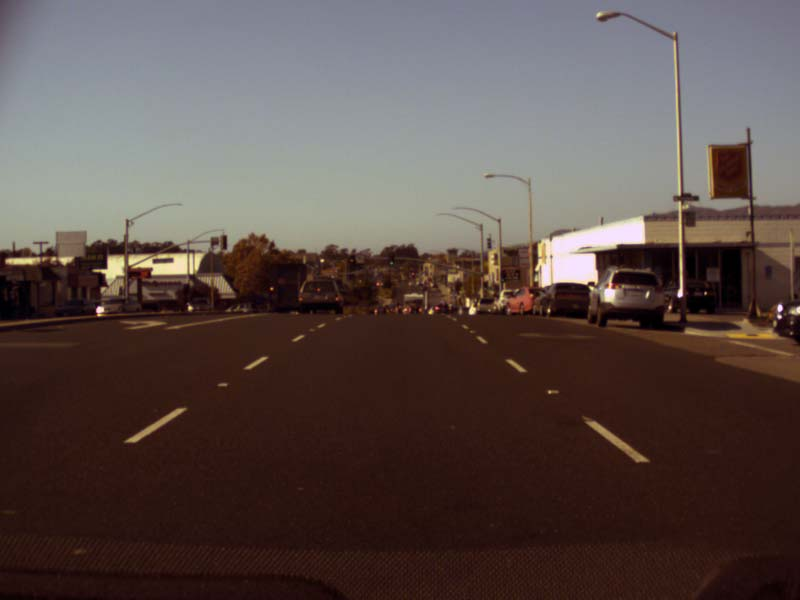Green: (388, 253, 393, 266)
Red: (411, 272, 414, 275)
Yellow: (349, 254, 354, 266), (269, 282, 274, 294)
